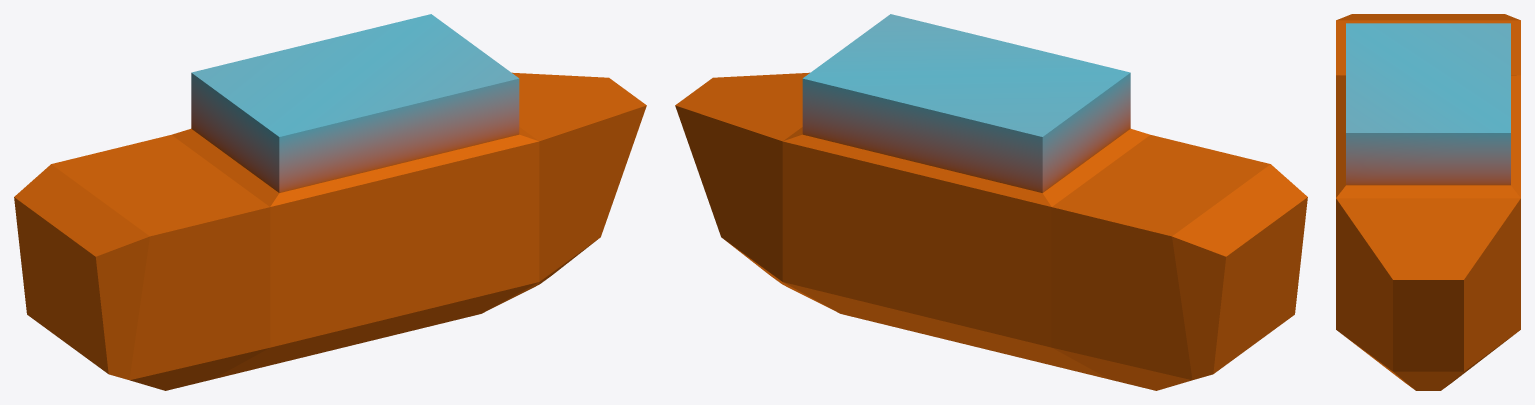
Rendered from miniboat.fbx.
3 views of the same model, side by side, from view 1: azimuth 30°, elevation 25°; view 2: azimuth 150°, elevation 25°; view 3: azimuth 270°, elevation 25° (orthographic). The views are drawn at different scales.
Visible parts, largest first — view 1: Cube; view 2: Cube; view 3: Cube.
Part boxes in pixels (x1,y1,x2,y2): Cube: (14, 14, 646, 390); Cube: (675, 14, 1307, 390); Cube: (1336, 14, 1520, 390).
Size of the model in its own units: 670 by 270 by 200.
